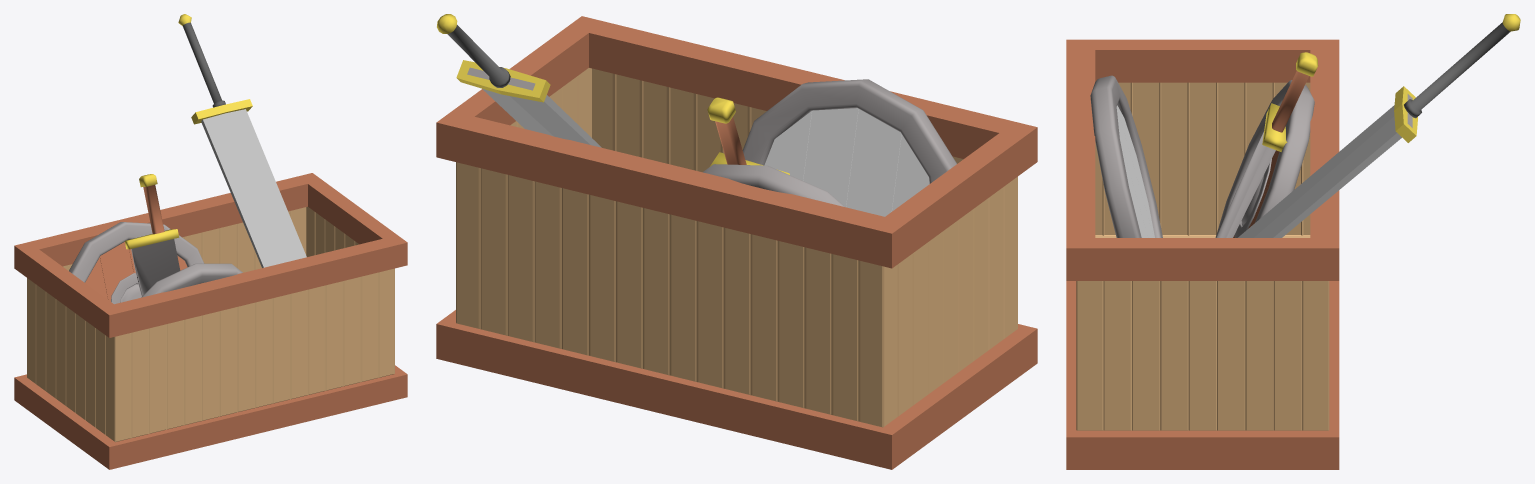
Rendered from BoxWithWeapon.fbx.
3 renders of one model, left to right at view 1: azimuth 30°, elevation 25°; view 2: azimuth 150°, elevation 25°; view 3: azimuth 270°, elevation 25°, orthographic. The views are drawn at different scales.
Parts seen in each view (by area): view 1: Cube.012; view 2: Cube.012; view 3: Cube.012.
Part boxes in pixels (x1,y1,x2,y2): Cube.012: (14,14,407,469); Cube.012: (436,14,1037,469); Cube.012: (1066,14,1520,469).
Bounding box in the file's own units: 78.56 × 71.71 × 72.29.
Materials: 1 (1 with a texture image).
